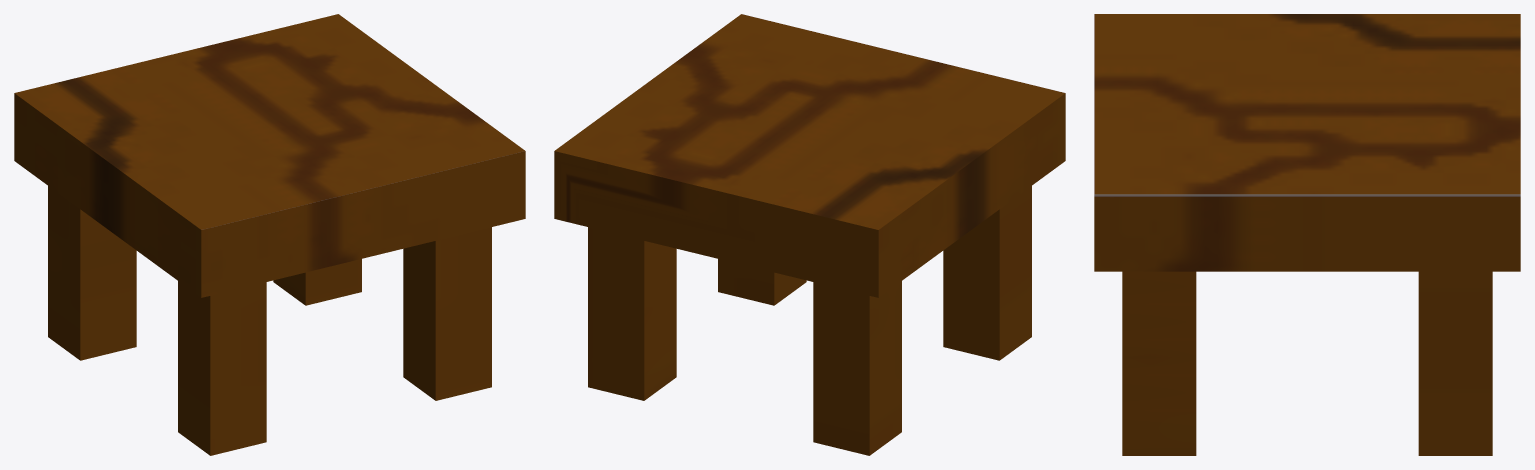
File: Table Model.fbx
3 renders of one model, left to right at view 1: azimuth 30°, elevation 25°; view 2: azimuth 150°, elevation 25°; view 3: azimuth 270°, elevation 25°, orthographic. The views are drawn at different scales.
Parts seen in each view (by area): view 1: Cube; view 2: Cube; view 3: Cube.
Boxes of the visible parts, left/top/right/bottom form: Cube: left=14, top=14, right=525, bottom=455; Cube: left=554, top=14, right=1065, bottom=455; Cube: left=1094, top=14, right=1520, bottom=455.
Size of the model in its own units: 60 by 42.46 by 60.
Materials: 1 (1 with a texture image).
